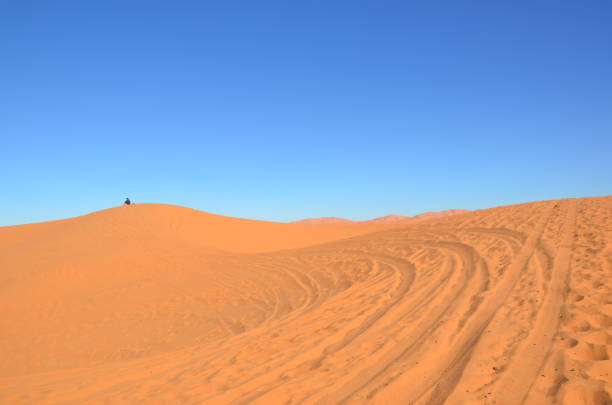vehicle_track: (0, 200, 608, 404), (393, 204, 552, 403), (231, 253, 413, 402), (323, 241, 478, 402), (495, 200, 575, 404)
